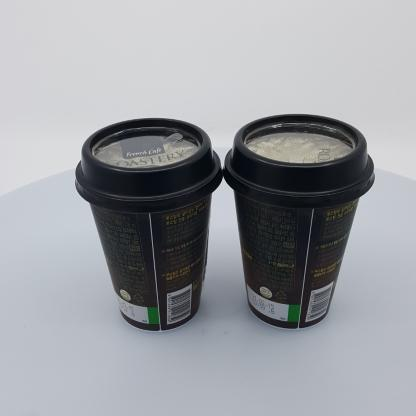--------------------: (223, 112, 375, 330), (75, 117, 223, 332)
